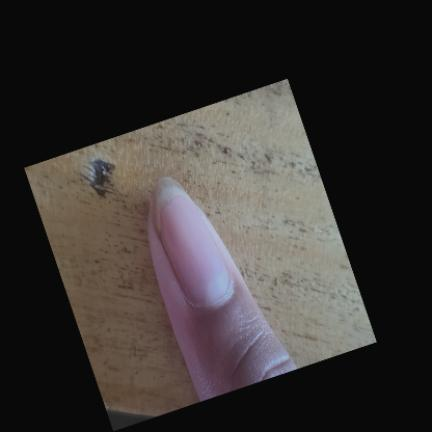Nail: (153, 177, 230, 305)
